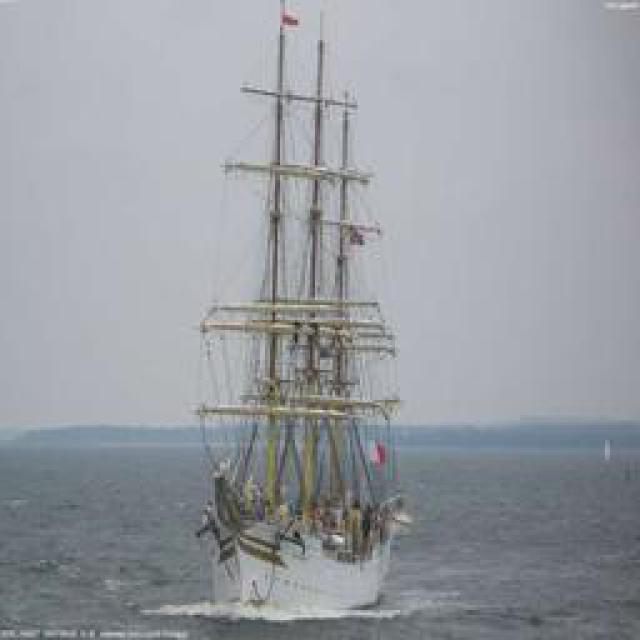Ship: (191, 1, 422, 624)
